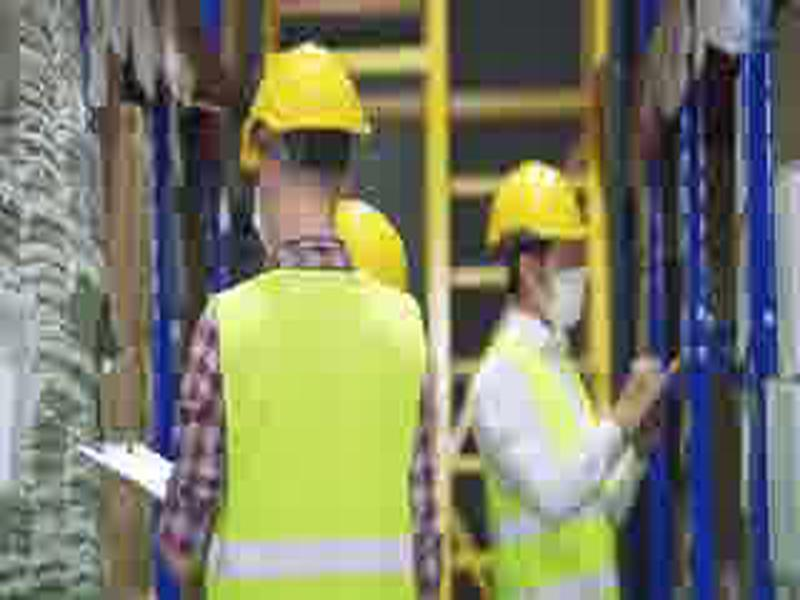hard-hat: (235, 38, 378, 181), (271, 195, 413, 324), (483, 154, 599, 260)
